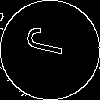J: (25, 25, 75, 60)
